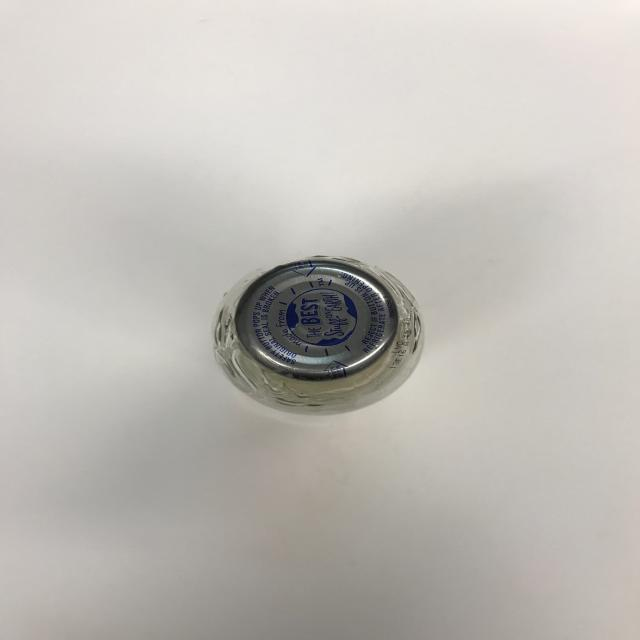metal: (212, 254, 426, 414)
